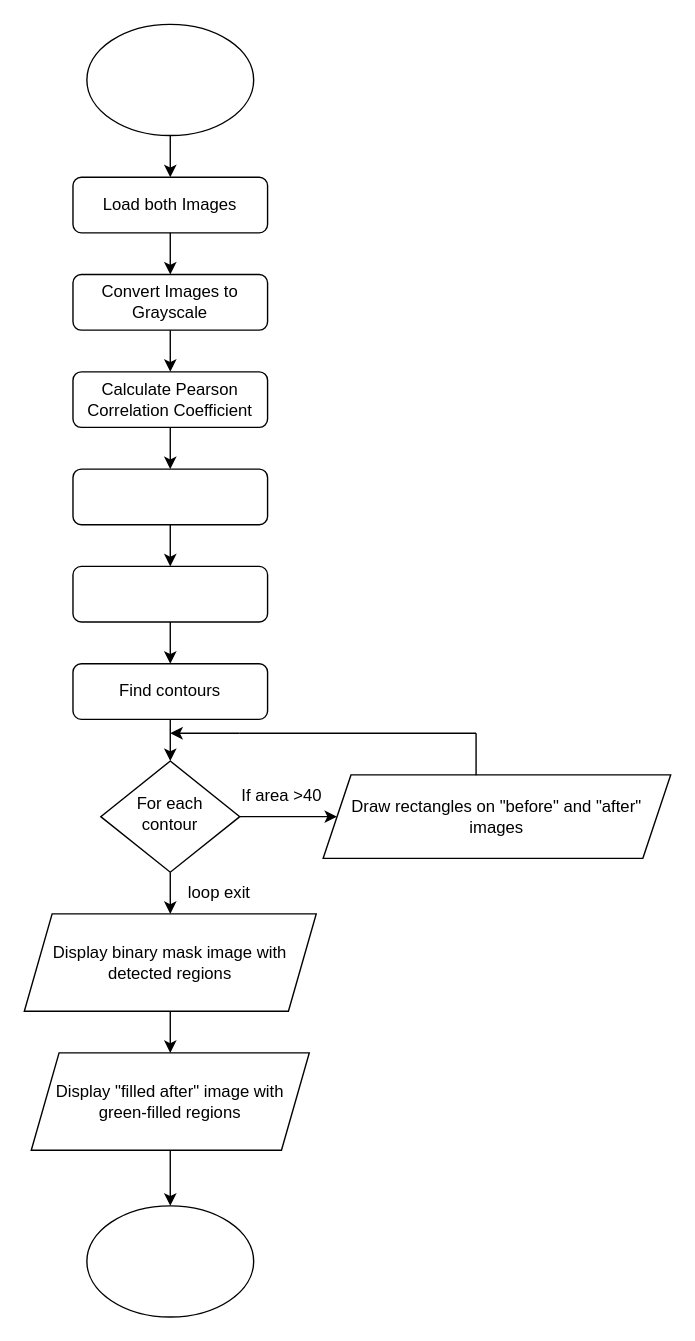
Image size: 695x1341. Some labels were removed from this diagram. Each missing label, with the centre of its shape:
Calculate Absolute Difference of images: (x=170, y=496)
End: (x=169, y=1260)
Start: (x=169, y=79)
Threshold the difference of Images: (x=170, y=593)
